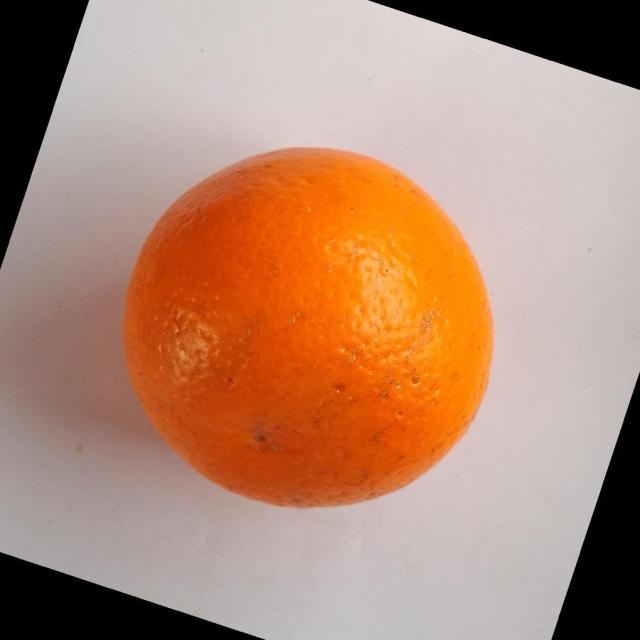agrume: (122, 144, 494, 509)
